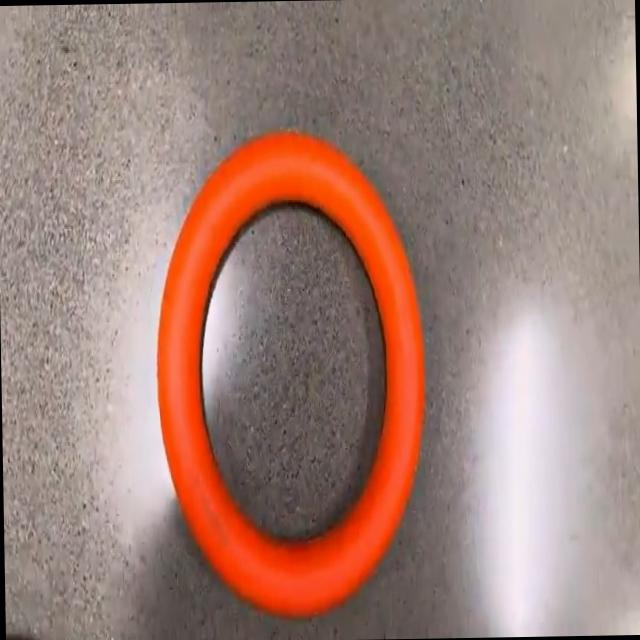note: (158, 132, 424, 615)
